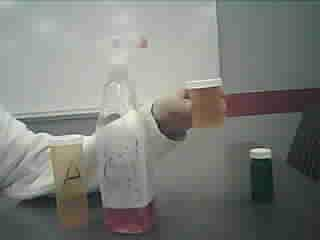Bottle A: (46, 132, 93, 232)
Bottle B: (187, 76, 228, 131)
Bottle C: (246, 143, 279, 208)
hazard: (97, 29, 155, 239)
